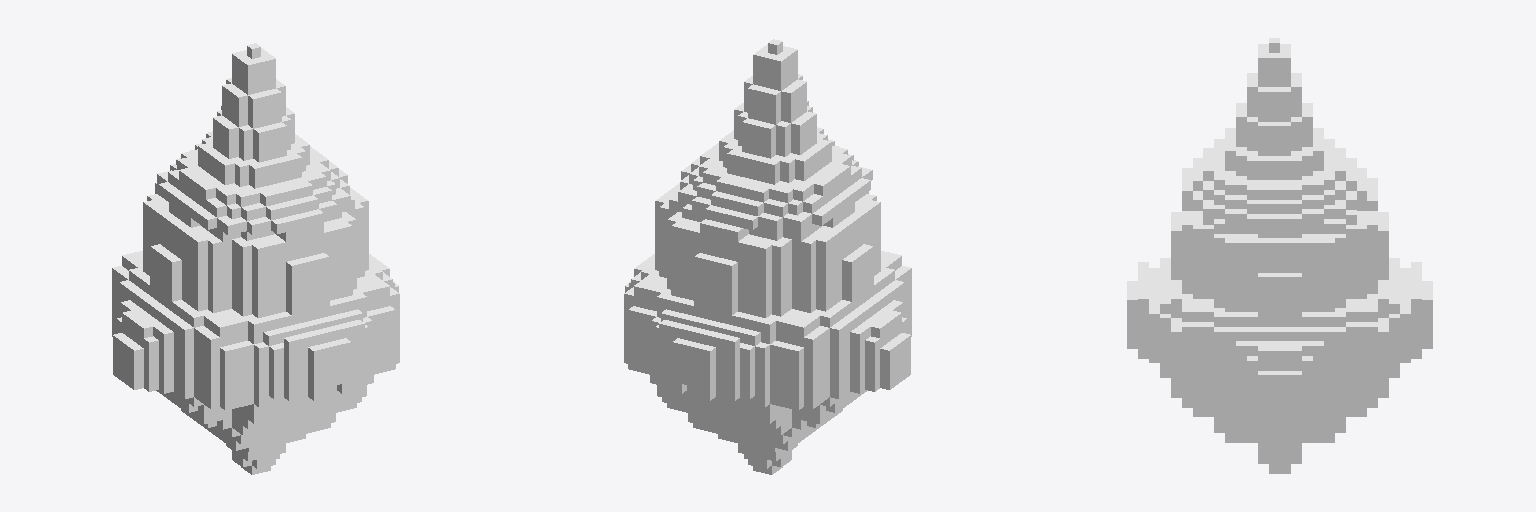
The model's file is Iceflower-4.obj.
3 renders of one model, left to right at view 1: azimuth 30°, elevation 25°; view 2: azimuth 150°, elevation 25°; view 3: azimuth 270°, elevation 25°, orthographic.
Parts seen in each view (by area): view 1: object 1; view 2: object 1; view 3: object 1.
Part boxes in pixels (x1,y1,x2,y2): object 1: (112,43,399,474); object 1: (624,39,911,474); object 1: (1127,38,1432,473).
Size of the model in its own units: 2.8 by 4.3 by 2.8.